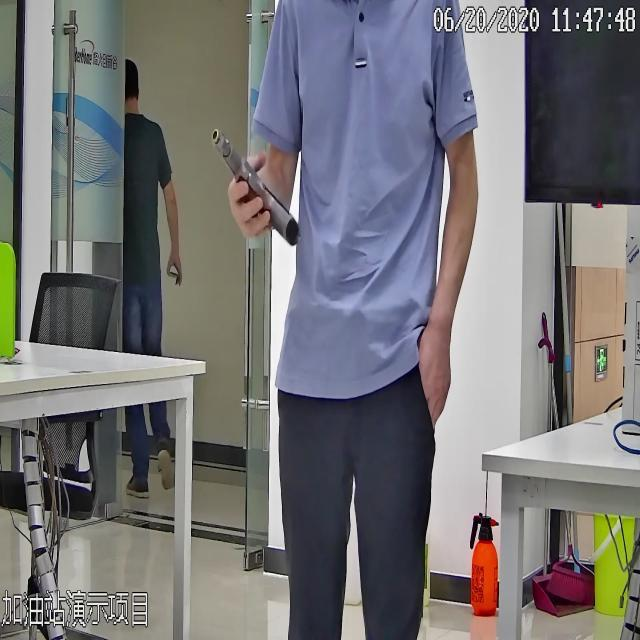gun-knife-thesis - v11 Yolov5 augmented: (210, 125, 303, 249)
